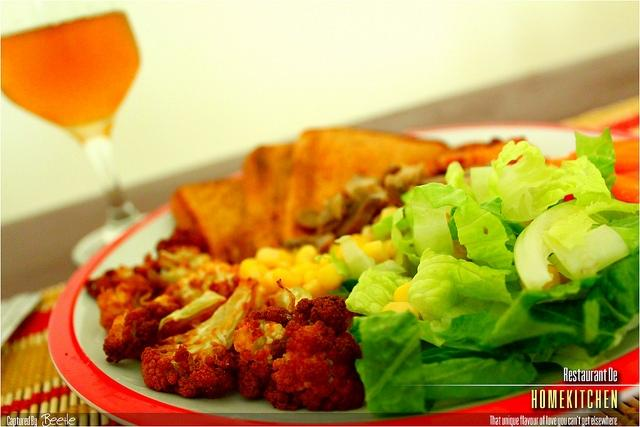cauliflower: (138, 278, 272, 400), (232, 294, 366, 410), (103, 293, 181, 364), (99, 276, 152, 334), (156, 244, 200, 285), (164, 271, 206, 309)
corn: (318, 263, 344, 291), (240, 258, 268, 283), (272, 268, 305, 289), (362, 240, 389, 264), (292, 262, 320, 276), (296, 244, 316, 263), (274, 248, 292, 266), (384, 240, 398, 260), (303, 269, 318, 284)
lettuce: (517, 250, 640, 364), (491, 140, 640, 222), (434, 276, 602, 348), (407, 247, 520, 333), (349, 310, 436, 418), (542, 198, 639, 279), (421, 352, 539, 400), (411, 182, 466, 258), (574, 127, 616, 199), (345, 276, 394, 316), (582, 300, 600, 343), (372, 214, 394, 242), (399, 238, 416, 254)
